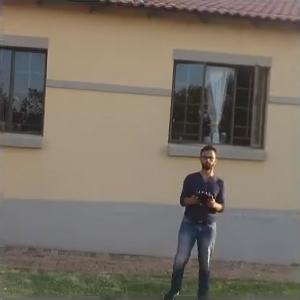follow: (158, 145, 228, 298)
